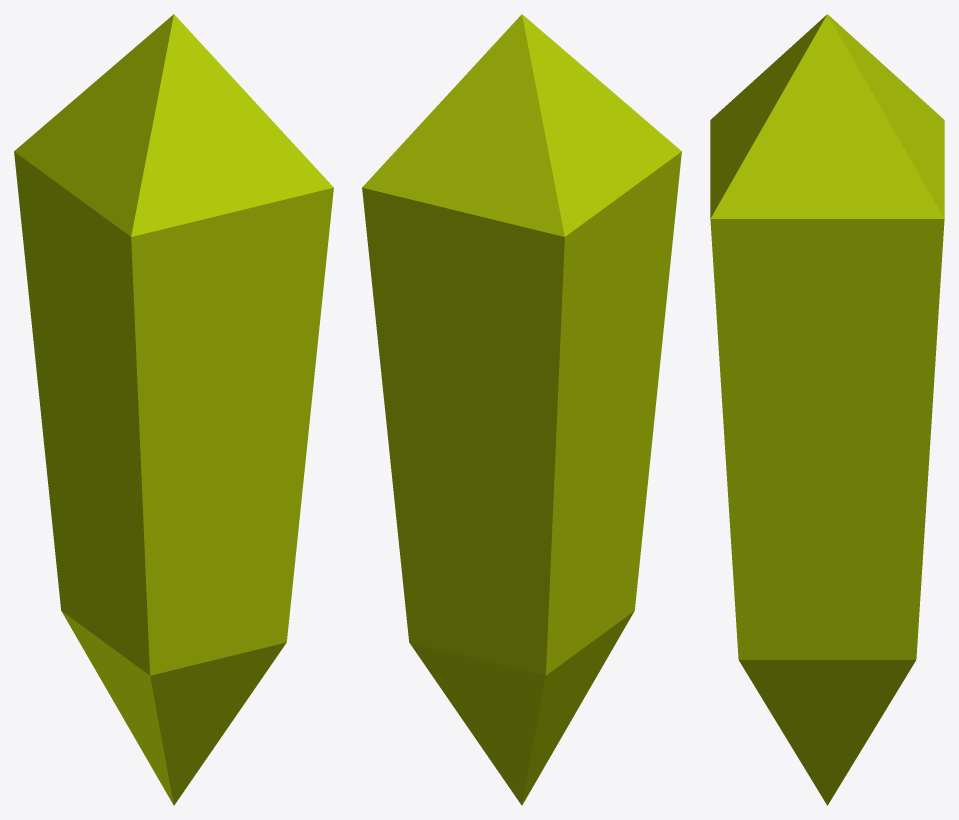
Rendered from left_leg_lower.obj.
The picture shows the model from 3 angles, left to right: view 1: azimuth 30°, elevation 25°; view 2: azimuth 150°, elevation 25°; view 3: azimuth 270°, elevation 25°; orthographic projection.
Parts seen in each view (by area): view 1: left_leg_lower; view 2: left_leg_lower; view 3: left_leg_lower.
Part boxes in pixels (x1,y1,x2,y2): left_leg_lower: (14, 14, 333, 805); left_leg_lower: (362, 14, 681, 805); left_leg_lower: (710, 14, 944, 805).
Bounding box in the file's own units: 0.5937 × 2.22 × 0.5937.
